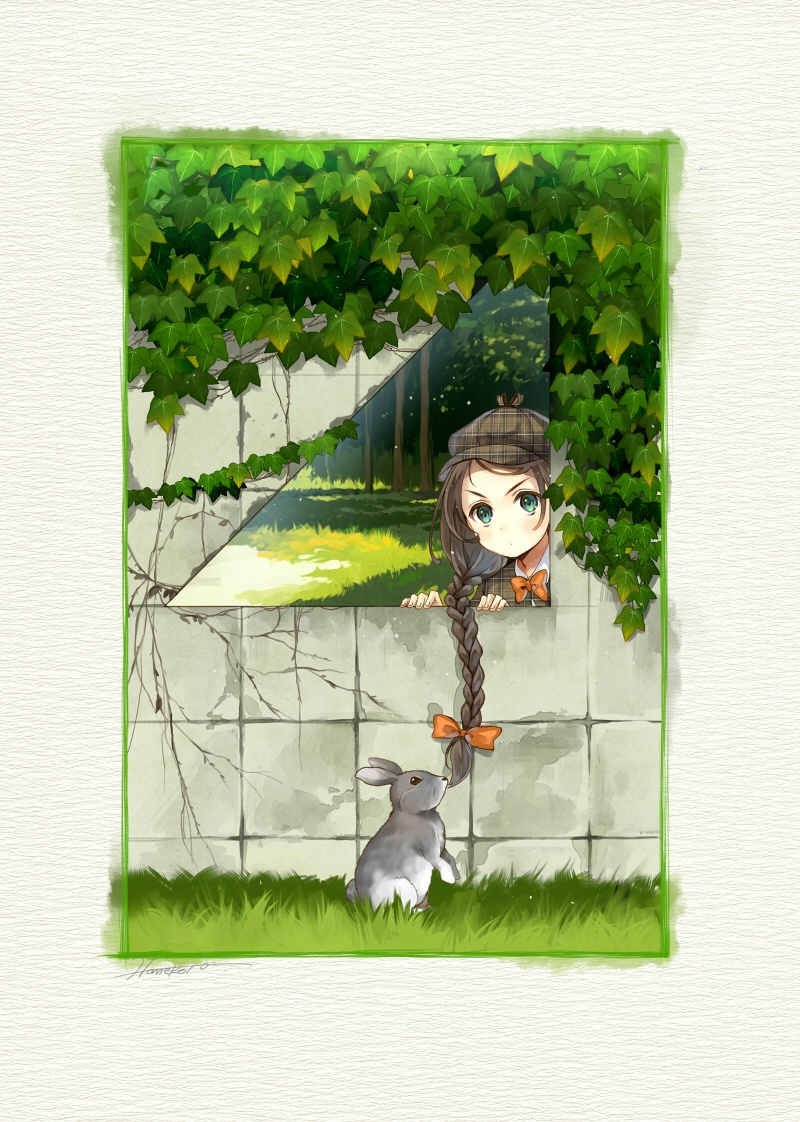纸片人正脸: (435, 400, 561, 570)
